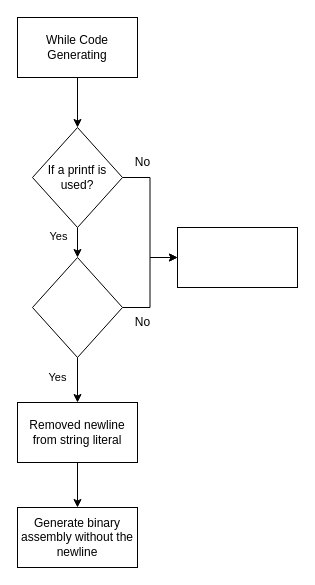
The diagram is 315 pixels wide and 585 high, and some of its shapes have lost their labels. Each missing label, with the centre of its shape:
"Don't apply remove special chars submodule" belongs at (x=237, y=257).
"Is a newline encountered?" belongs at (x=77, y=307).
